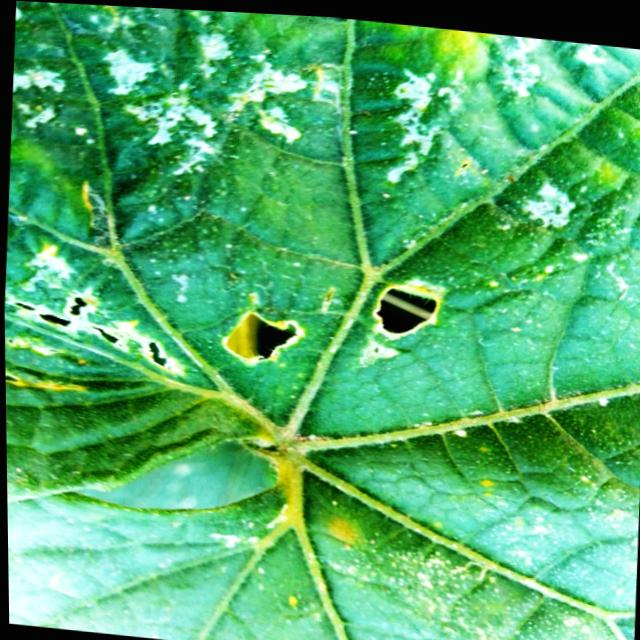Anthracnose: (8, 280, 179, 377), (213, 303, 309, 379), (365, 276, 449, 347)
